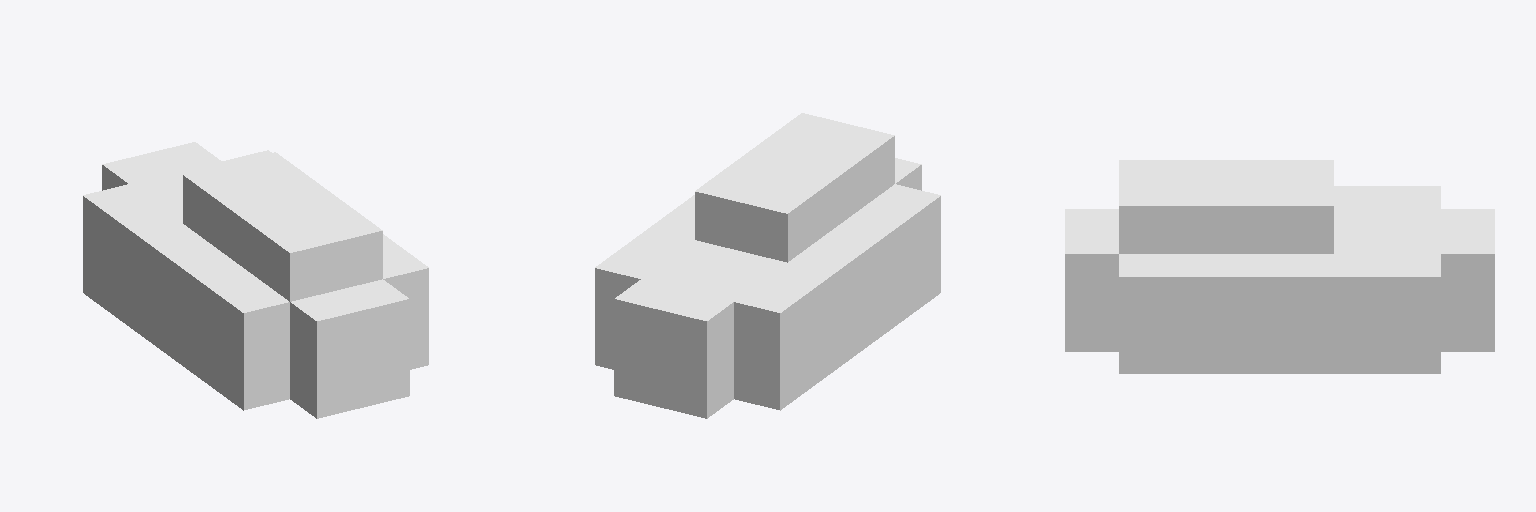
Rendered from male-73.obj.
3 renders of one model, left to right at view 1: azimuth 30°, elevation 25°; view 2: azimuth 150°, elevation 25°; view 3: azimuth 270°, elevation 25°, orthographic.
Parts seen in each view (by area): view 1: object 1; view 2: object 1; view 3: object 1.
Part boxes in pixels (left/top/right/bottom): object 1: left=83, top=142, right=428, bottom=418; object 1: left=595, top=113, right=940, bottom=418; object 1: left=1065, top=160, right=1494, bottom=373.
Bounding box in the file's own units: 0.4 × 0.3 × 0.8.